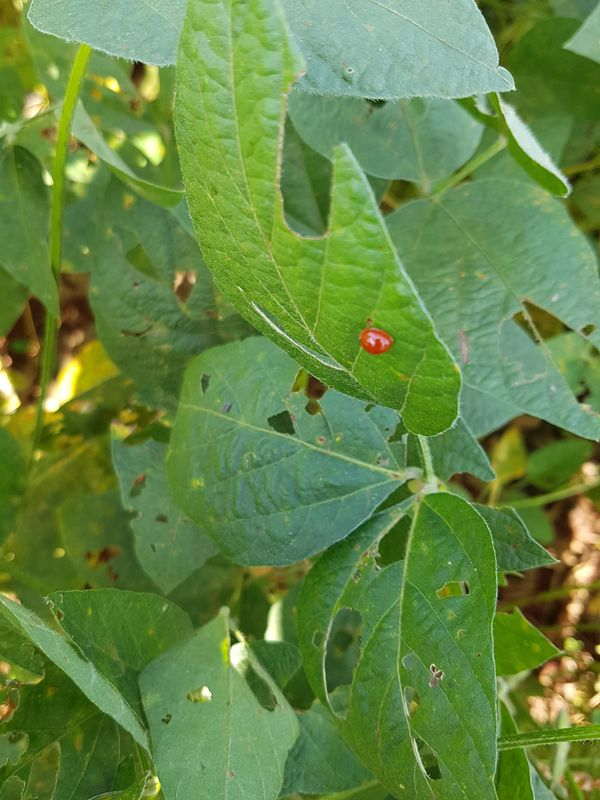Coccinellidae: (344, 314, 405, 366)
